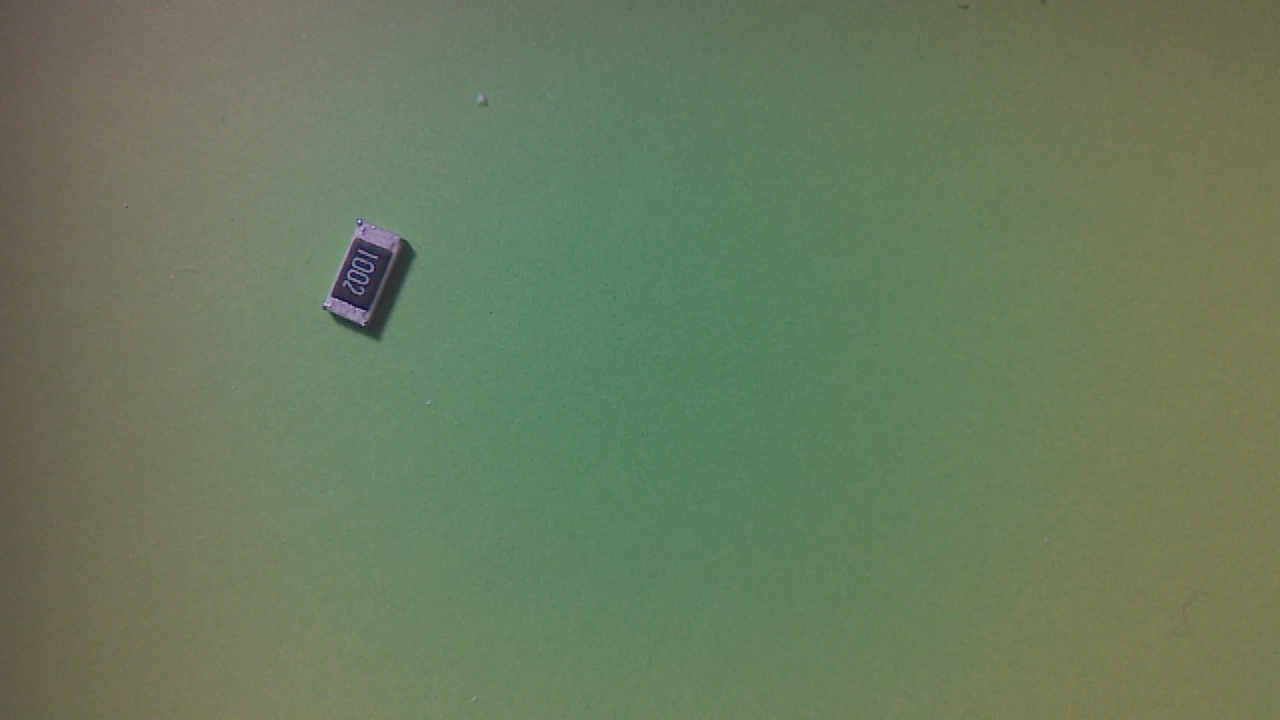Resistor: (325, 216, 417, 335)
